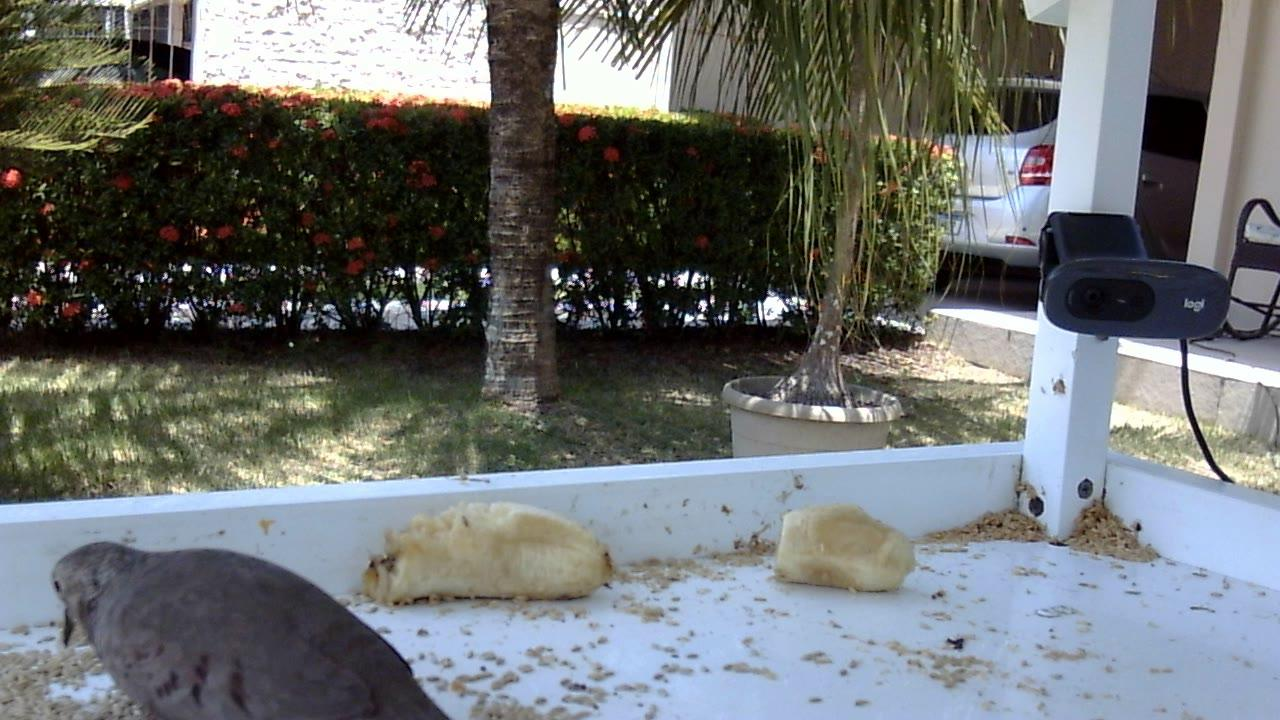rolinha: (51, 539, 456, 720)
